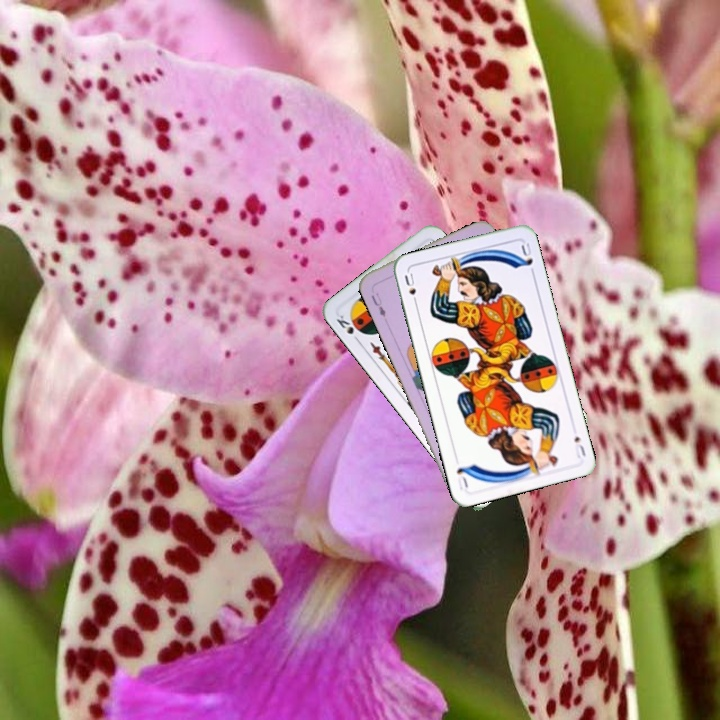EU: (367, 288, 388, 320)
SK: (332, 311, 363, 346)
SU: (400, 269, 420, 308), (570, 432, 588, 461)
